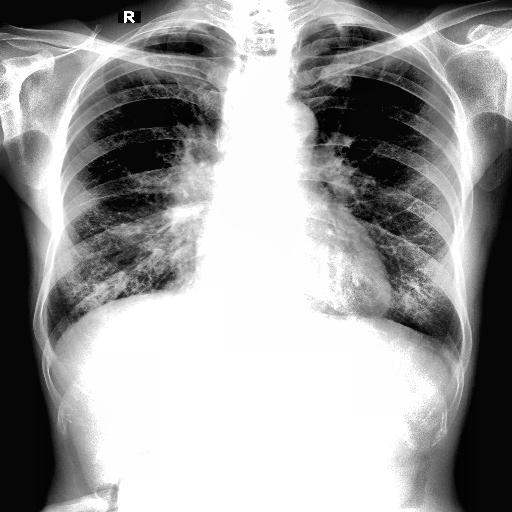11- Pleural thickening: (122, 20, 210, 46), (125, 24, 219, 42), (129, 22, 197, 40)
7- Lung Opacity: (48, 172, 180, 316), (340, 173, 458, 332), (361, 158, 460, 328), (50, 208, 190, 320)
